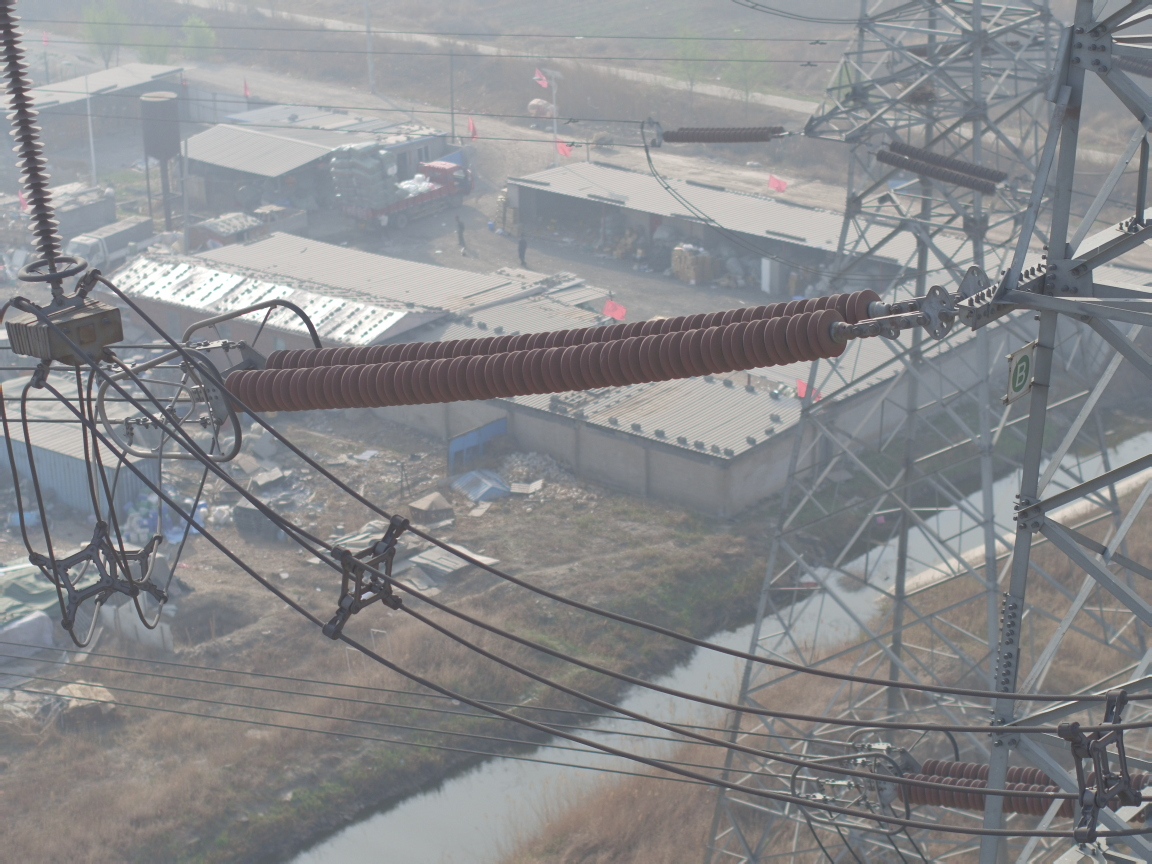insulator: (204, 280, 914, 415)
